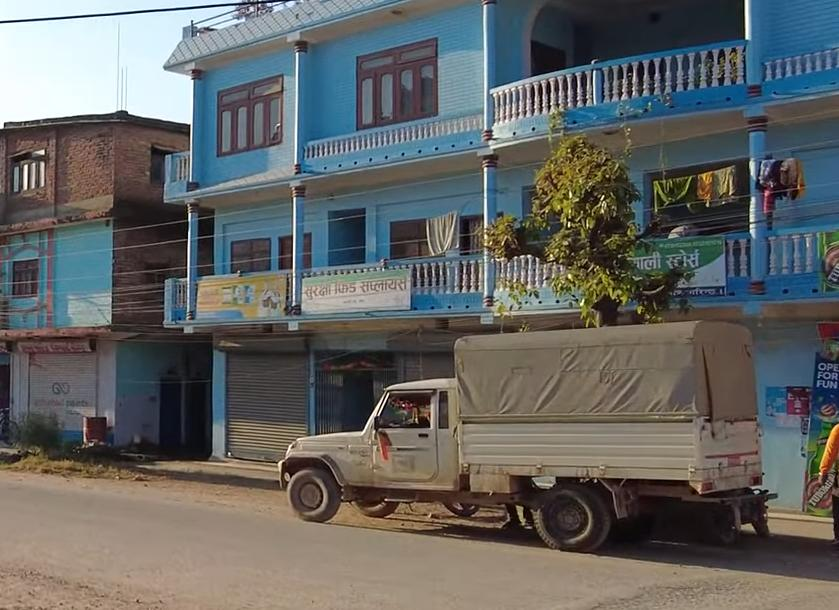transport_vehicle: (268, 313, 768, 559)
